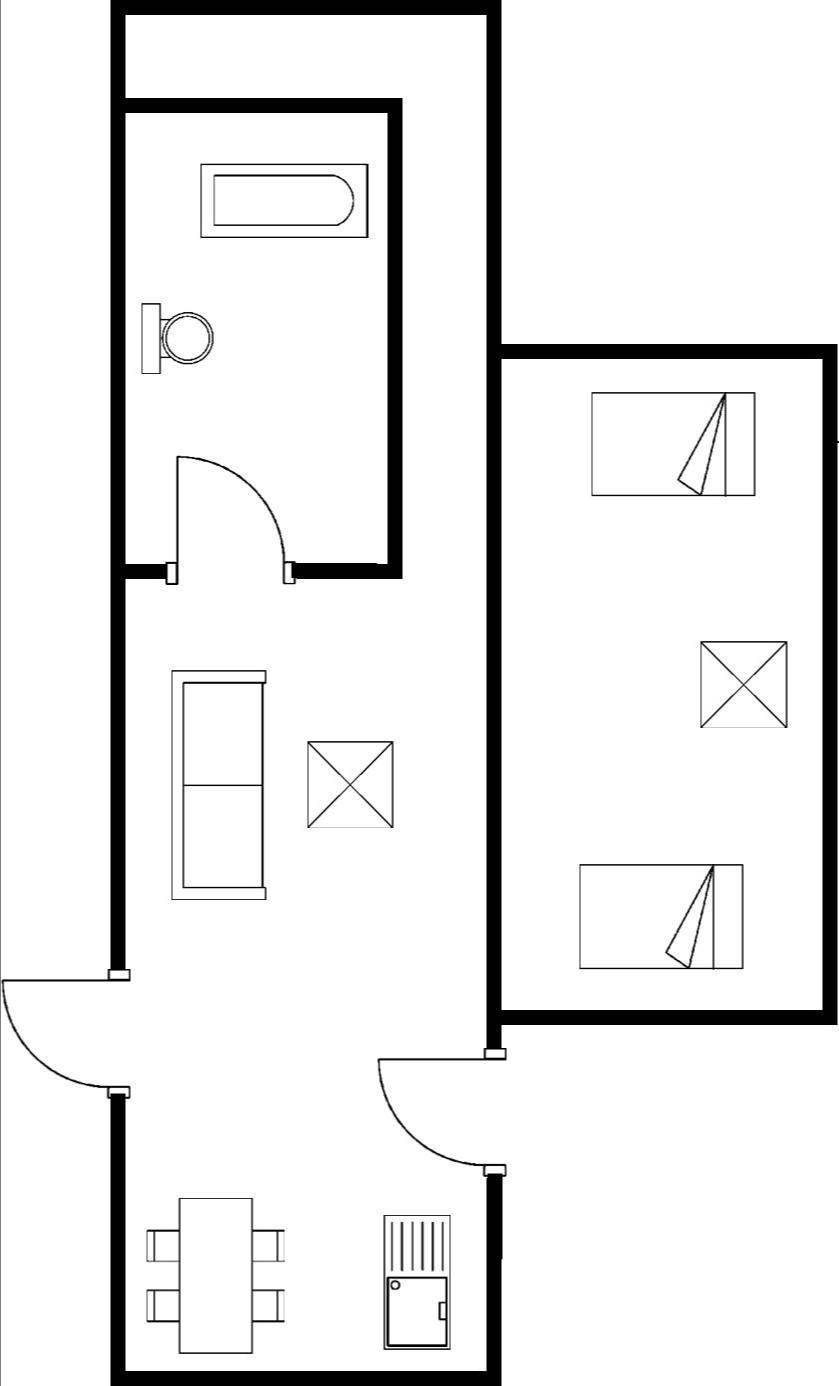bed: (568, 855, 753, 976), (585, 383, 761, 506)
dining_table: (140, 1189, 298, 1358)
sink: (368, 1206, 462, 1359)
sofa: (164, 662, 280, 914)
toilet: (134, 293, 226, 385)
tub: (194, 153, 375, 244)
